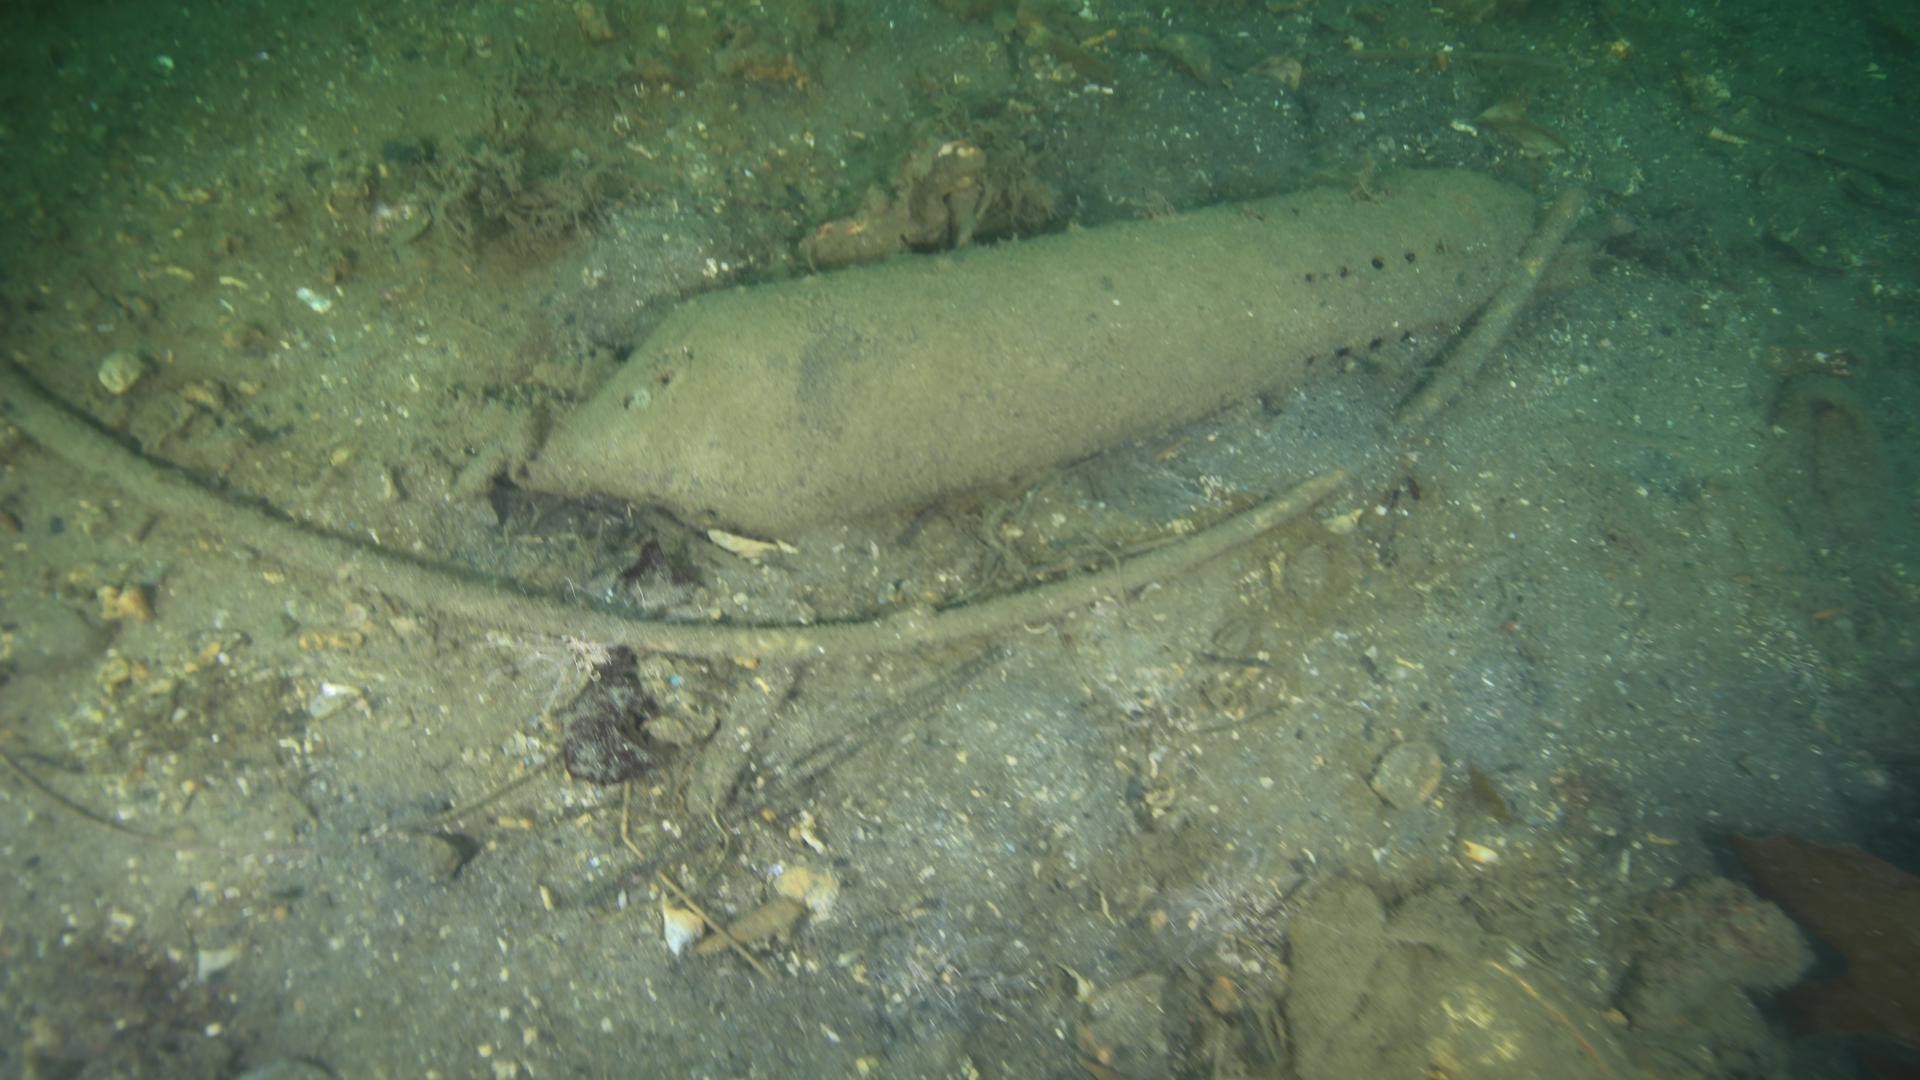eel fish trap: (521, 162, 1539, 535)
